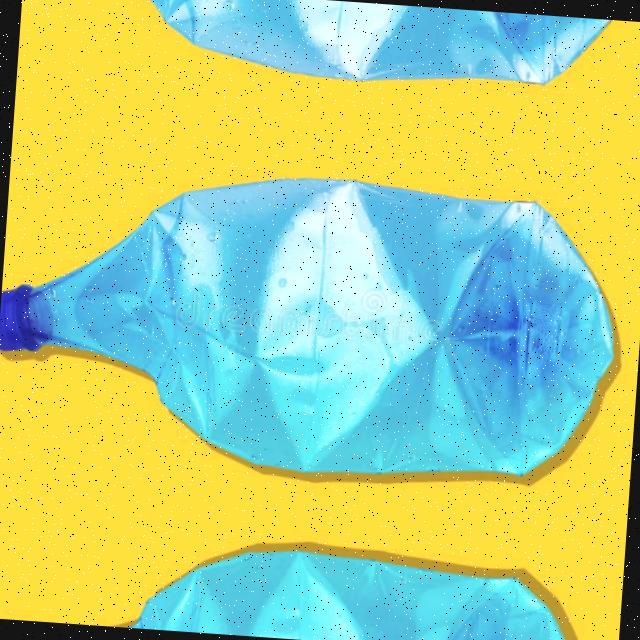Plastic: (0, 123, 639, 513), (0, 508, 611, 640), (15, 0, 640, 129)
